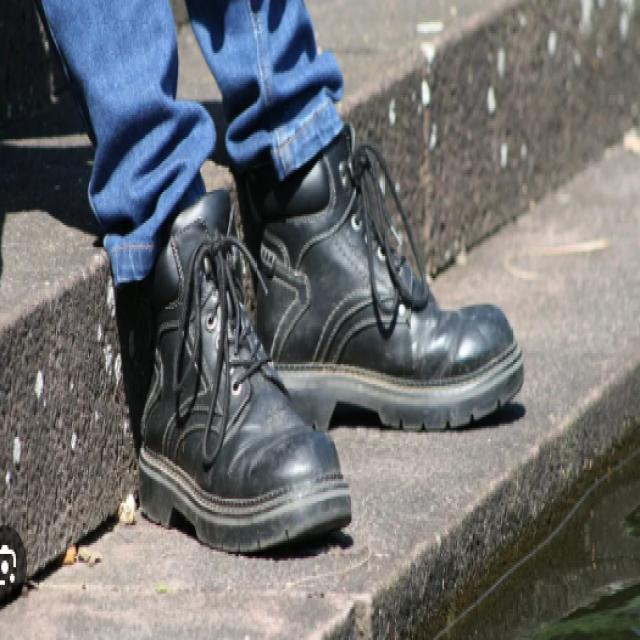shoes: (120, 107, 527, 560)
